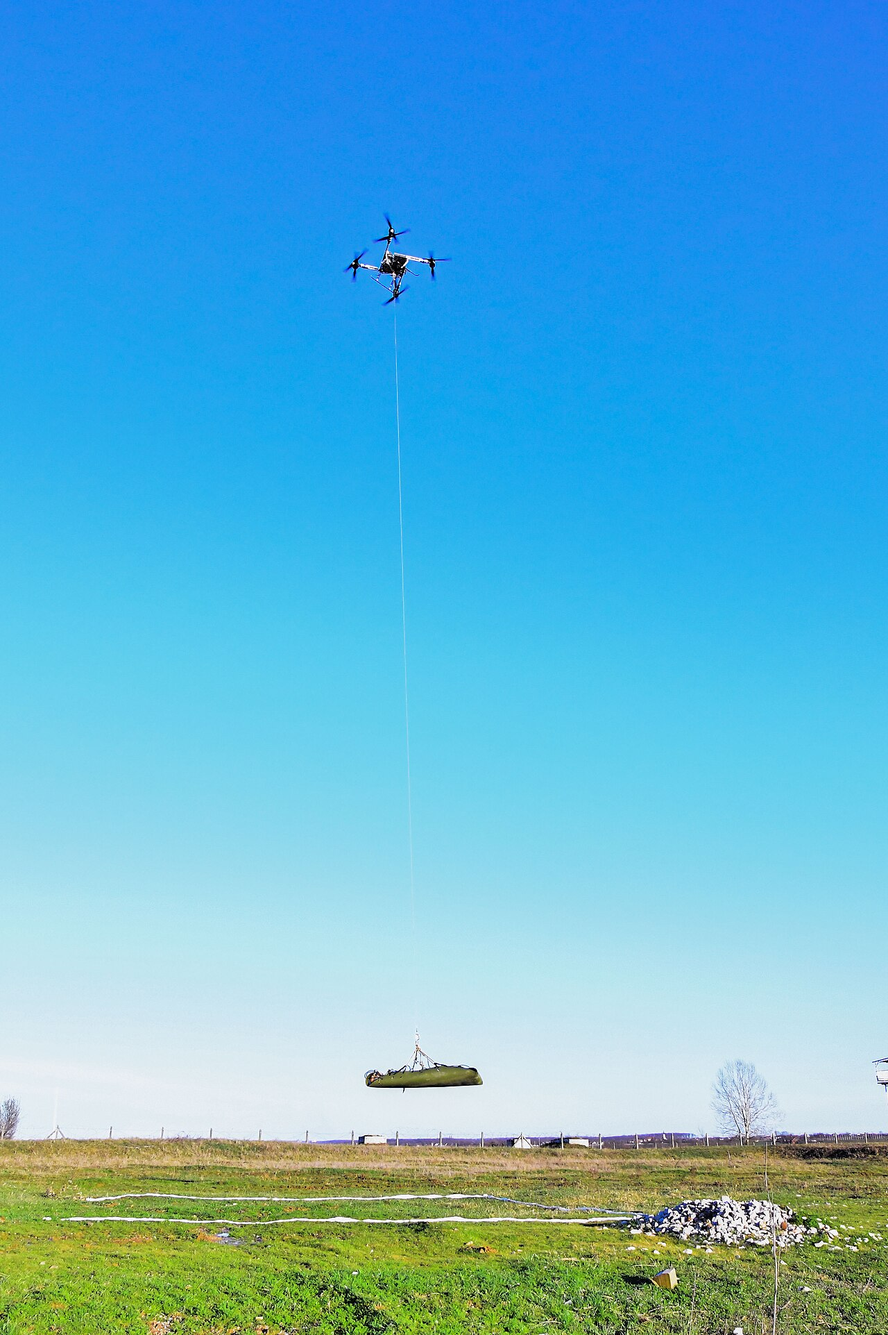drone: (343, 211, 450, 310)
